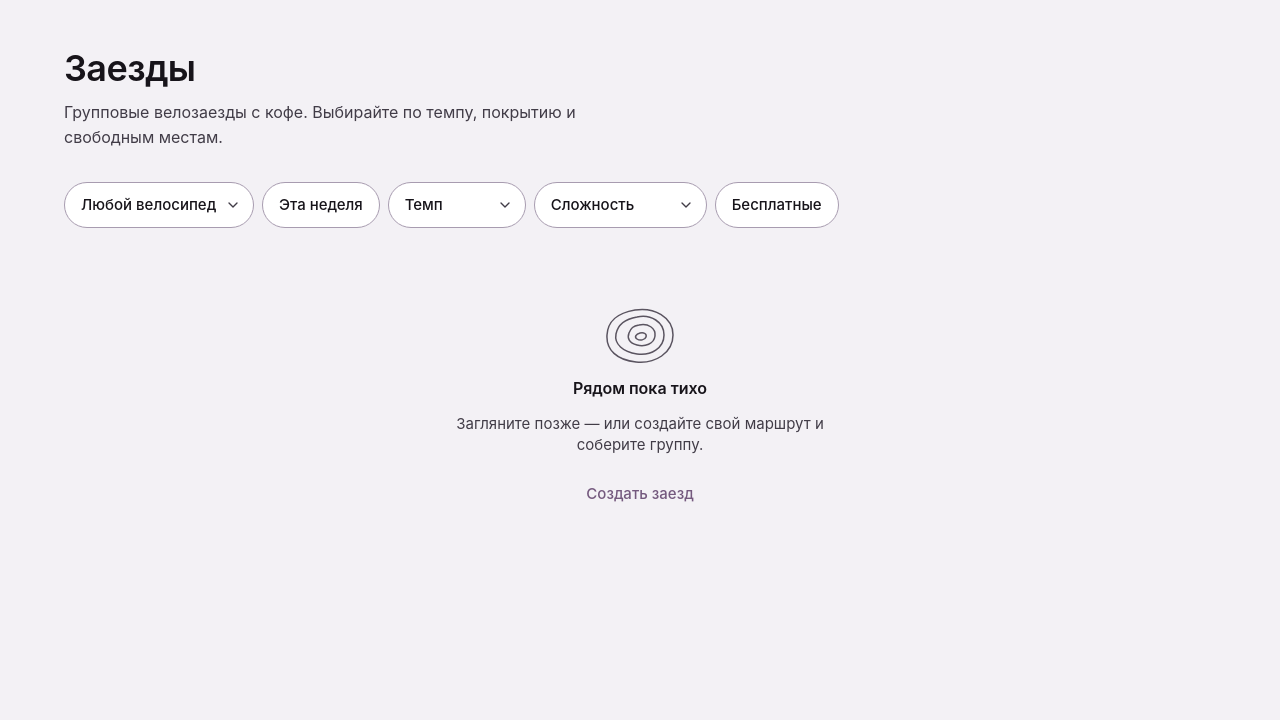
Test: RideGrid (CR-153) › sends each chip to the API and resets them from the filtered empty state
The image size is (1280, 720).
Expected: the text "Рядом пока тихо" is shown, [573,376,707,401]
Select "20–25 км/ч" in the 2nd dropdown named "Темп": [457, 205] box [389,183,525,227]
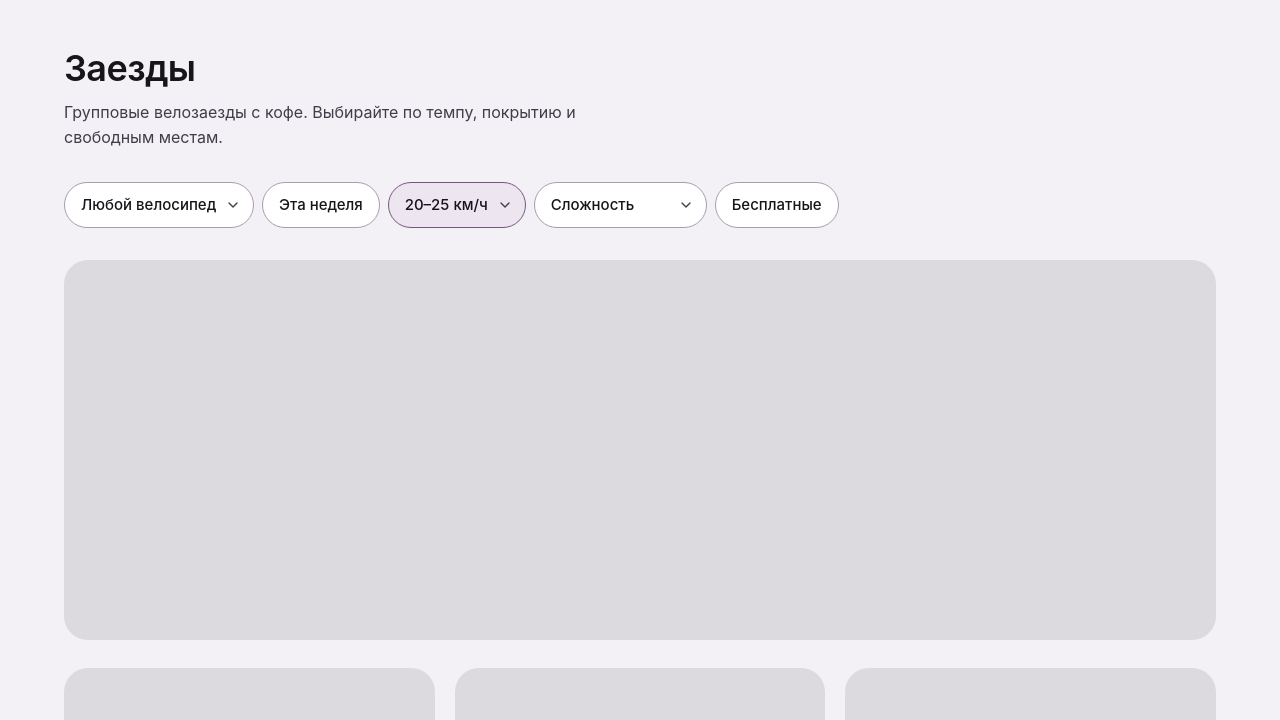
Select "Ниже среднего" in the 3rd dropdown named "Сложность": [620, 205] box [535,183,706,227]
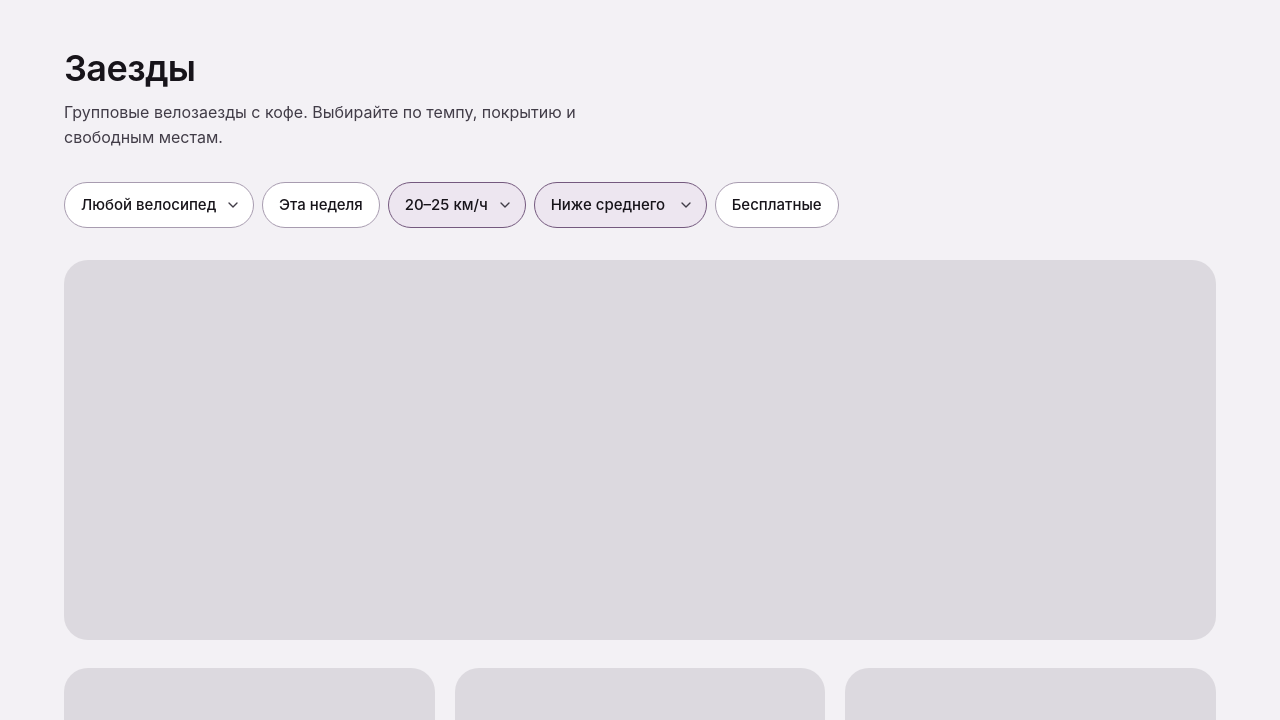
Click the button "Эта неделя": [321, 205] box [262,182,380,228]
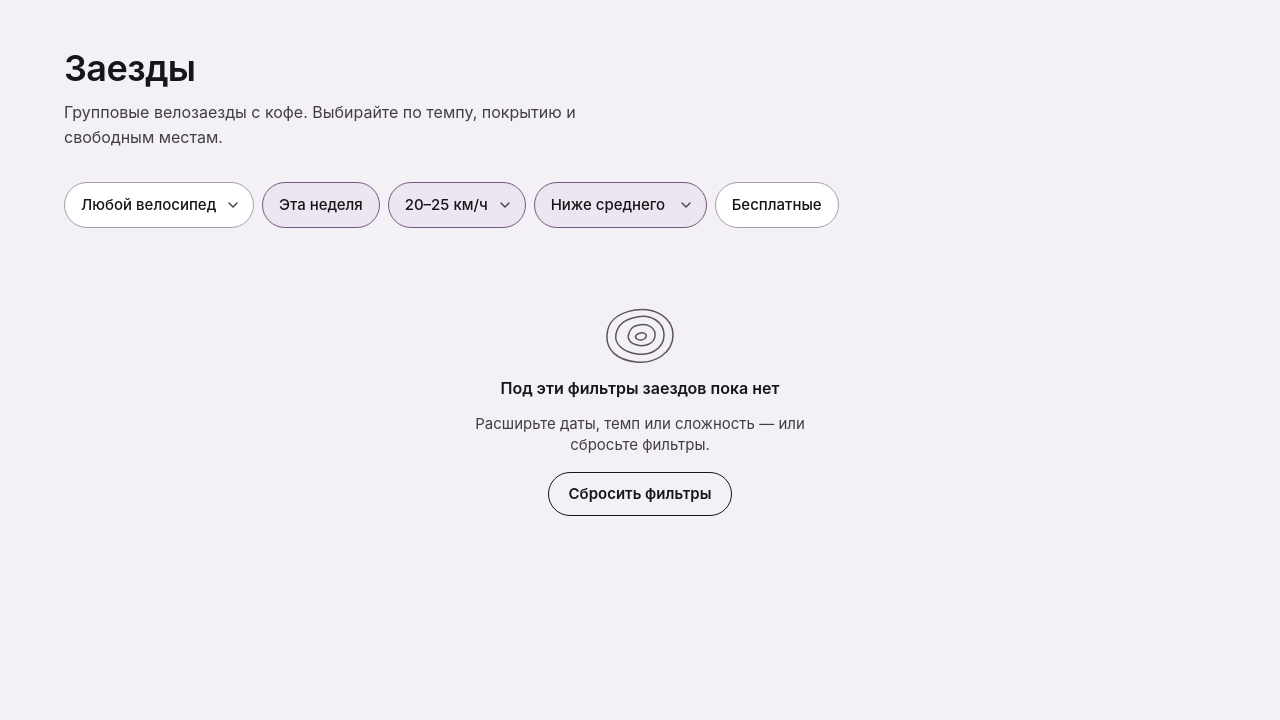
Expected: the button "Эта неделя" is pressed, [262,182,380,228]
Click the button "Сбросить фильтры": [640, 494] box [548,472,732,516]
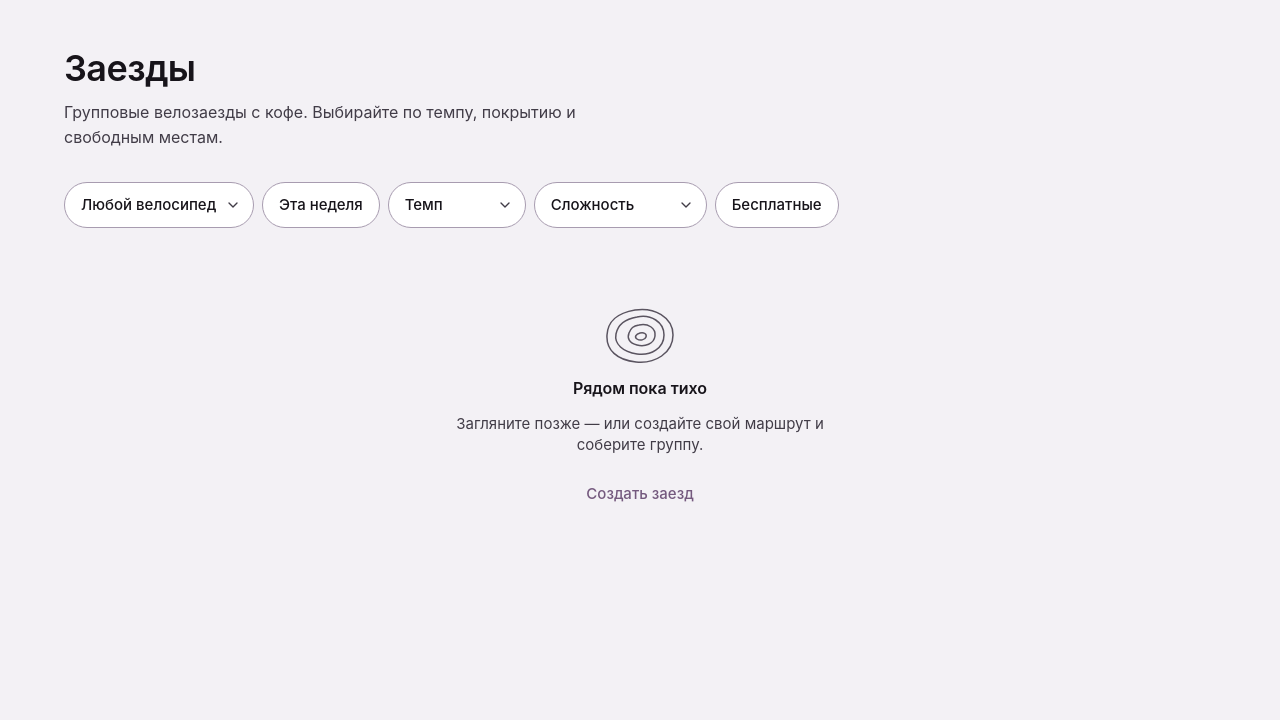
Expected: the text "Рядом пока тихо" is shown, [573,376,707,401]
